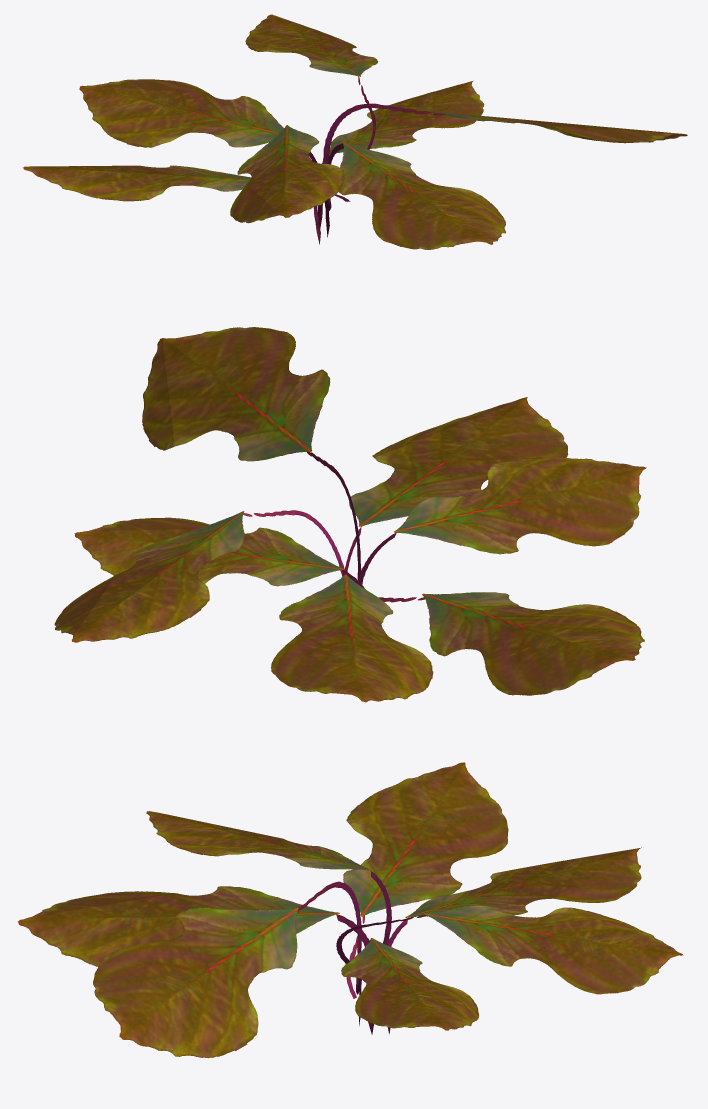
Rendered from Row Root B5.fbx.
3 views of the same model, one above another, from view 1: azimuth 30°, elevation 25°; view 2: azimuth 150°, elevation 25°; view 3: azimuth 270°, elevation 25° (orthographic). The views are drawn at different scales.
Parts seen in each view (by area): view 1: Row Root B5; view 2: Row Root B5; view 3: Row Root B5.
Part boxes in pixels (x1,y1,x2,y2): Row Root B5: [23, 14, 687, 249]; Row Root B5: [54, 327, 646, 702]; Row Root B5: [17, 762, 683, 1058].
Size of the model in its own units: 206 by 59.62 by 186.
